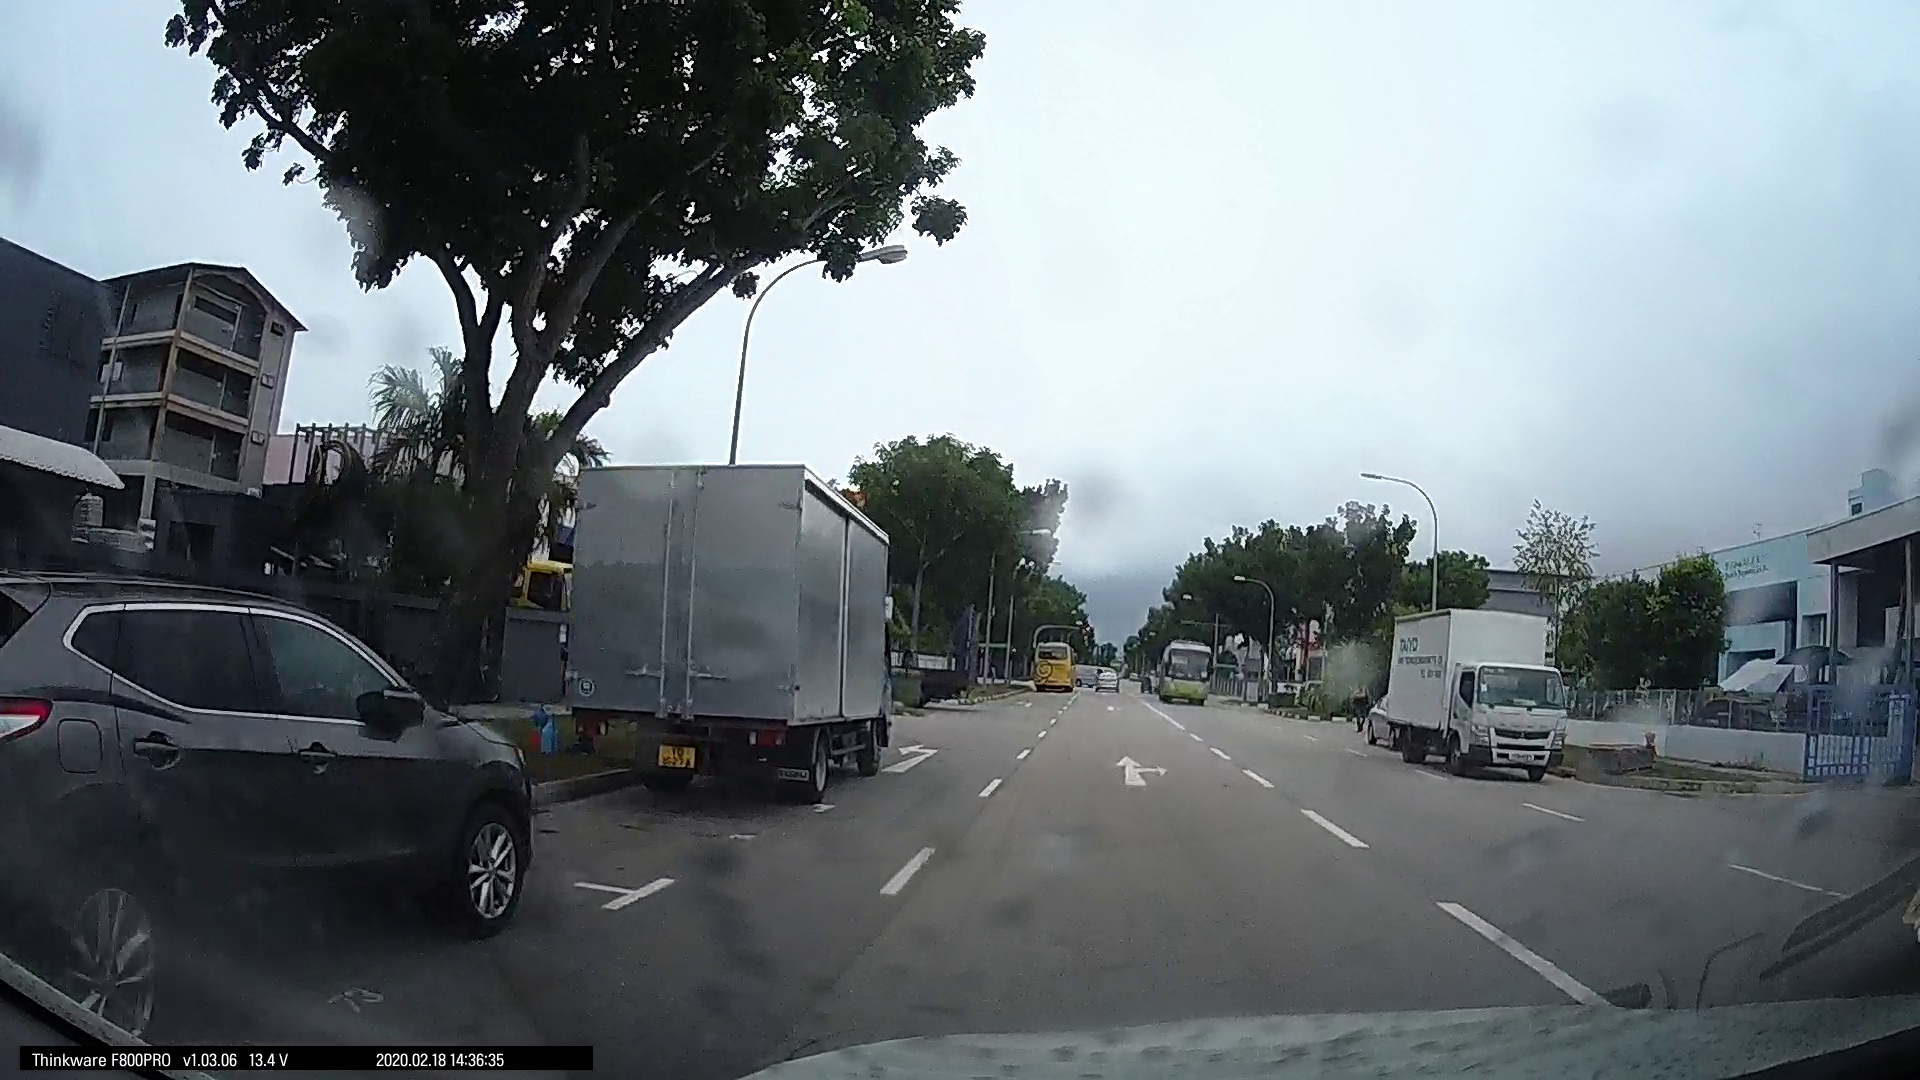Heavy Vehicle: (34, 345, 810, 924), (1341, 554, 1871, 985)
Light Vehicle: (1125, 651, 1251, 712), (934, 654, 1011, 728)
